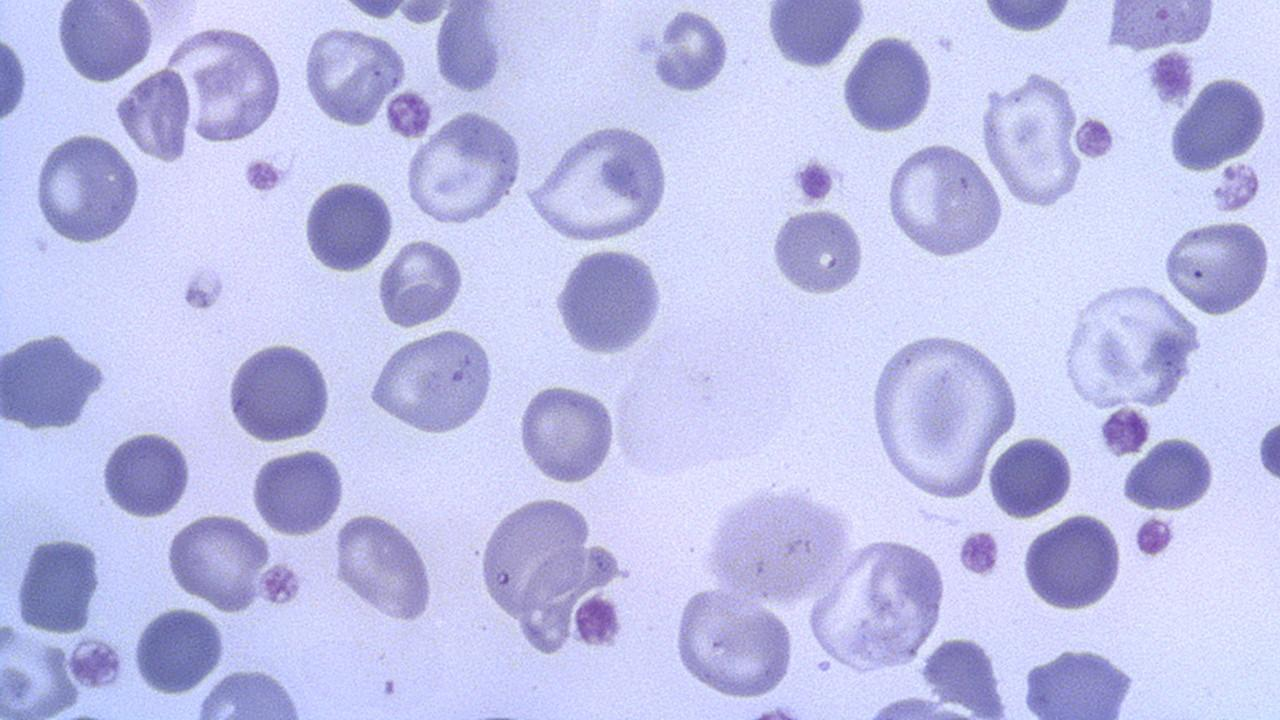Platelets: (570, 594, 628, 650), (1147, 48, 1195, 109), (1098, 407, 1150, 457), (790, 153, 840, 205), (1252, 412, 1280, 488)
RBC: (865, 326, 1021, 502), (807, 532, 950, 676), (474, 494, 616, 630), (698, 480, 852, 605), (520, 118, 672, 243), (980, 67, 1088, 210), (668, 584, 798, 702), (883, 139, 1006, 261), (403, 108, 526, 228), (364, 326, 494, 439), (172, 23, 289, 147), (550, 243, 670, 360), (31, 130, 143, 246), (222, 337, 336, 445), (332, 511, 438, 622), (1161, 216, 1275, 318), (514, 381, 618, 487), (1166, 72, 1270, 177), (165, 512, 274, 612), (1020, 512, 1126, 614), (301, 27, 403, 129), (838, 33, 938, 136), (301, 174, 397, 275), (766, 204, 868, 299), (14, 532, 102, 637), (1014, 646, 1142, 718), (98, 427, 195, 522), (246, 446, 346, 538), (131, 605, 228, 698), (375, 235, 465, 331), (51, 3, 155, 84), (115, 64, 194, 166), (986, 432, 1076, 521), (1122, 432, 1222, 512), (762, 1, 866, 73), (650, 6, 730, 96), (432, 2, 505, 97), (191, 667, 314, 717), (975, 1, 1079, 36), (0, 19, 30, 135), (1098, 405, 1152, 457), (1253, 404, 1279, 494), (336, 0, 412, 21)
WBC: (470, 487, 639, 652), (865, 322, 1021, 490), (207, 295, 350, 475), (1057, 280, 1203, 414), (702, 478, 854, 605), (515, 123, 671, 241), (539, 238, 674, 368), (365, 320, 502, 441), (159, 25, 292, 148), (406, 106, 526, 228), (332, 510, 444, 623), (1, 326, 115, 436), (1019, 512, 1125, 614), (1169, 74, 1273, 177), (840, 33, 938, 139), (52, 1, 159, 86), (1120, 430, 1222, 518), (762, 1, 866, 77), (431, 4, 508, 94), (1098, 0, 1224, 54)
